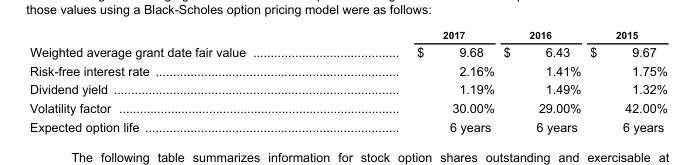table: (29, 28, 666, 133)
table column: (29, 28, 330, 133), (330, 28, 498, 133), (498, 28, 584, 133), (584, 28, 666, 133)
table column header: (29, 28, 666, 42)
table row: (29, 42, 666, 61), (29, 79, 666, 98), (29, 98, 666, 117), (29, 61, 666, 79), (29, 117, 666, 133), (29, 28, 666, 42)
